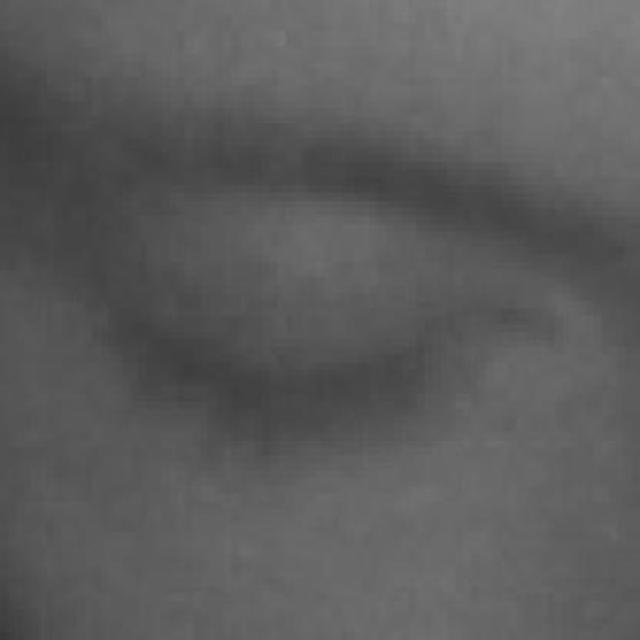drowsy: (83, 215, 454, 517)
